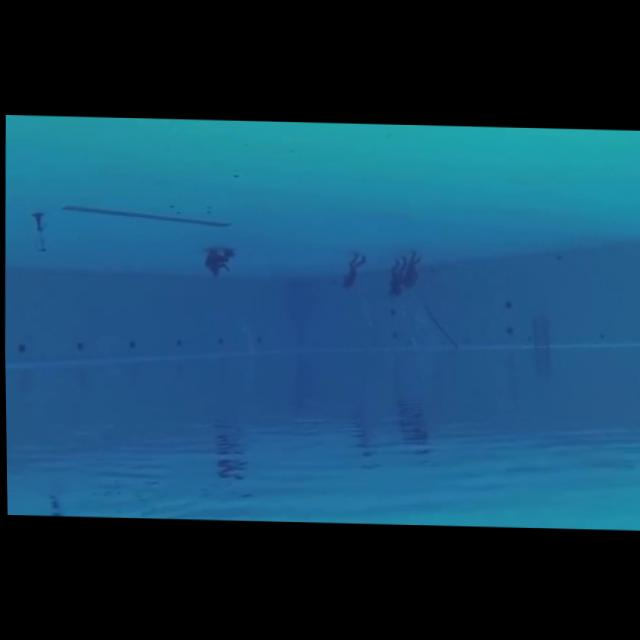human: (335, 248, 370, 296), (200, 240, 236, 281), (382, 254, 408, 303), (400, 245, 425, 292)
